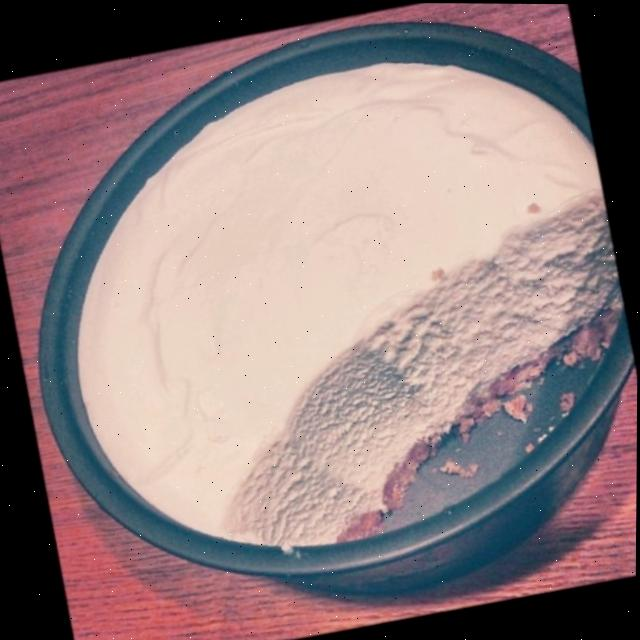豆腐料理: (47, 0, 590, 558)
